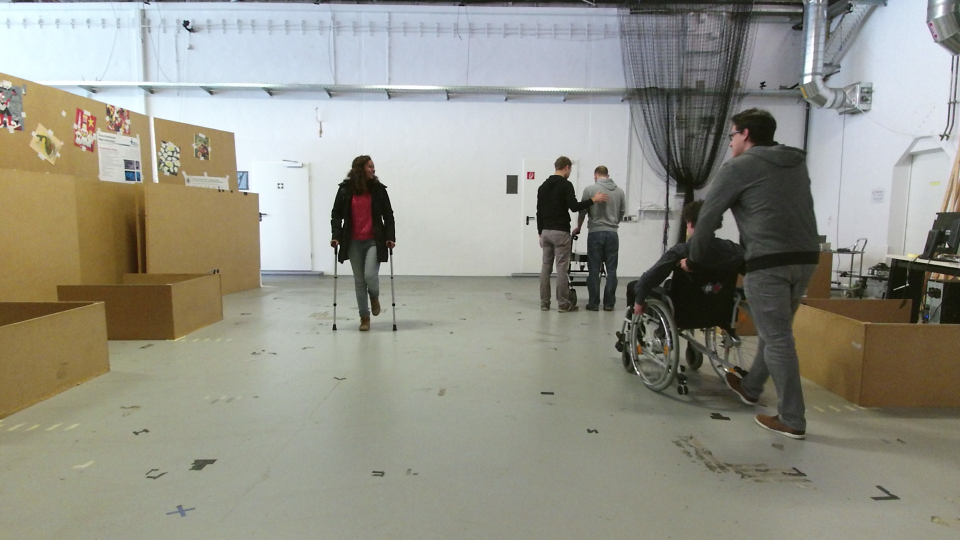crutches: (324, 145, 404, 337)
